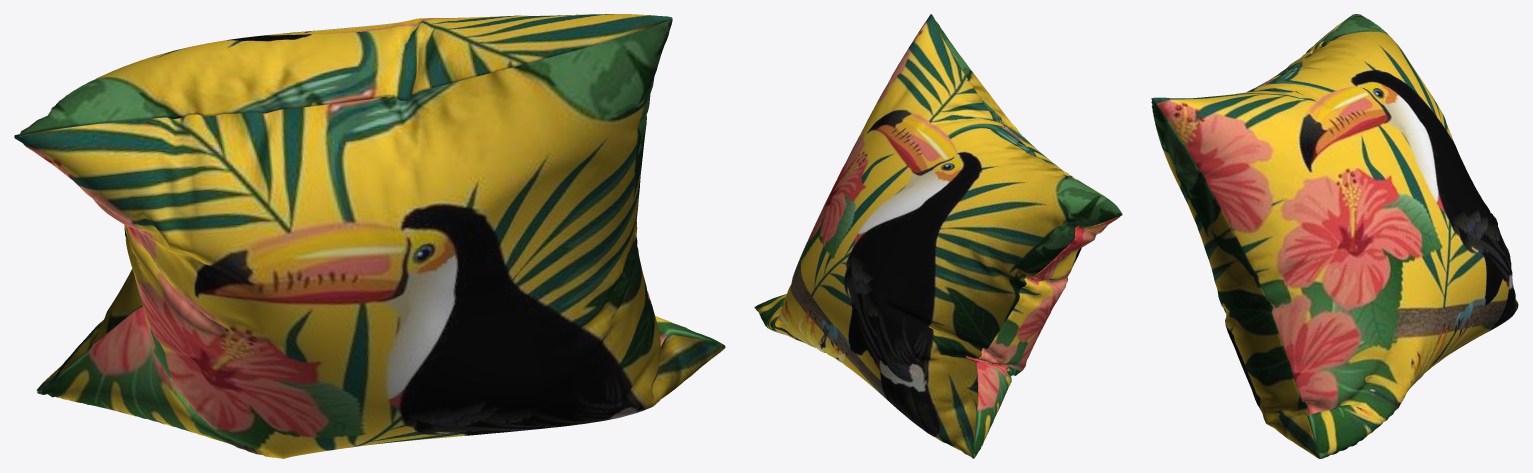
File: MOD_ART_ThreeRooms.fbx_Patterned_cushion-02.fbx
The picture shows the model from 3 angles, left to right: view 1: azimuth 30°, elevation 25°; view 2: azimuth 150°, elevation 25°; view 3: azimuth 270°, elevation 25°; orthographic projection. The views are drawn at different scales.
Parts seen in each view (by area): view 1: Patterned cushion-02; view 2: Patterned cushion-02; view 3: Patterned cushion-02.
Part boxes in pixels (box(x1,y1,x2,y2)): Patterned cushion-02: box(14, 14, 725, 458); Patterned cushion-02: box(754, 14, 1122, 458); Patterned cushion-02: box(1151, 14, 1518, 458).
Bounding box in the file's own units: 53.49 × 37.06 × 38.56.
1 material, 1 textured.
